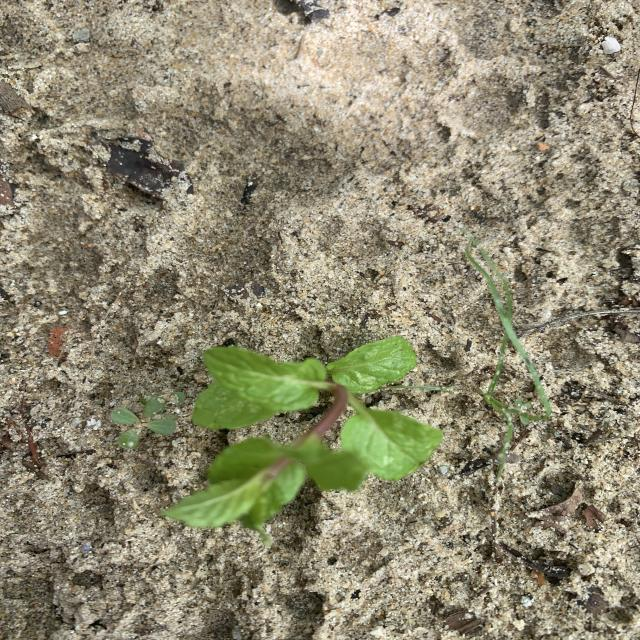crop: (165, 337, 443, 544)
weed: (465, 235, 552, 485), (111, 392, 186, 449)
